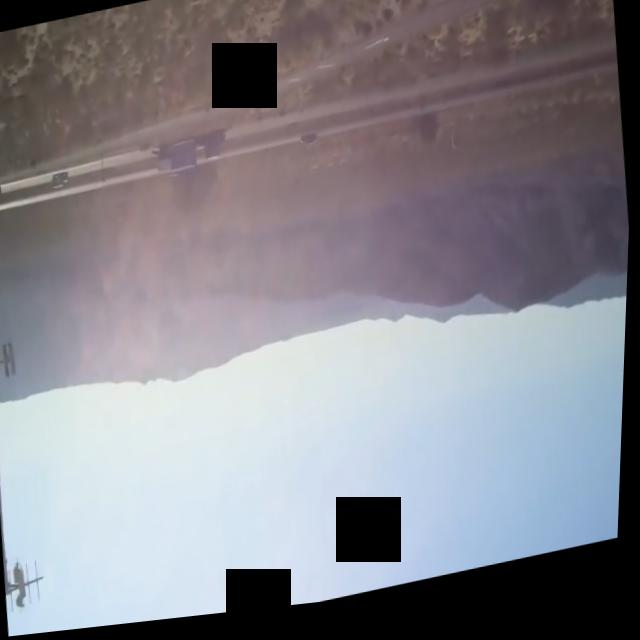Pole: (0, 25, 65, 617)
